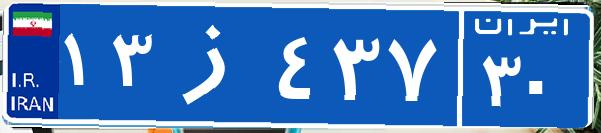0: (525, 38, 570, 115)
1: (57, 26, 110, 107)
3: (330, 28, 385, 110), (475, 38, 525, 113), (110, 28, 158, 105)
4: (273, 28, 330, 110)
7: (385, 28, 445, 110)
ز: (158, 15, 273, 115)
